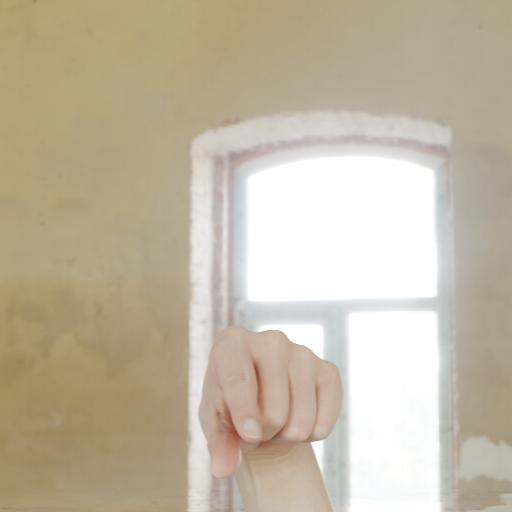Q: (186, 306, 361, 491)
